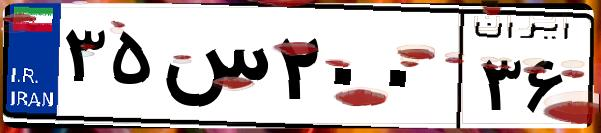0: (385, 28, 445, 110), (330, 28, 385, 110)
2: (270, 28, 330, 110)
3: (57, 26, 110, 100), (475, 38, 525, 113)
5: (110, 28, 158, 98)
6: (525, 38, 570, 115)
س: (158, 20, 270, 120)
